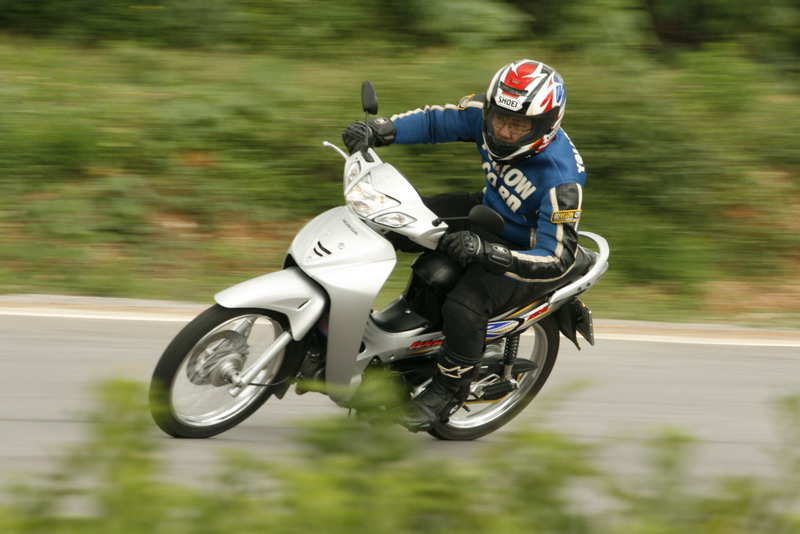helmet: (482, 58, 566, 164)
motorcycle: (150, 151, 610, 436)
